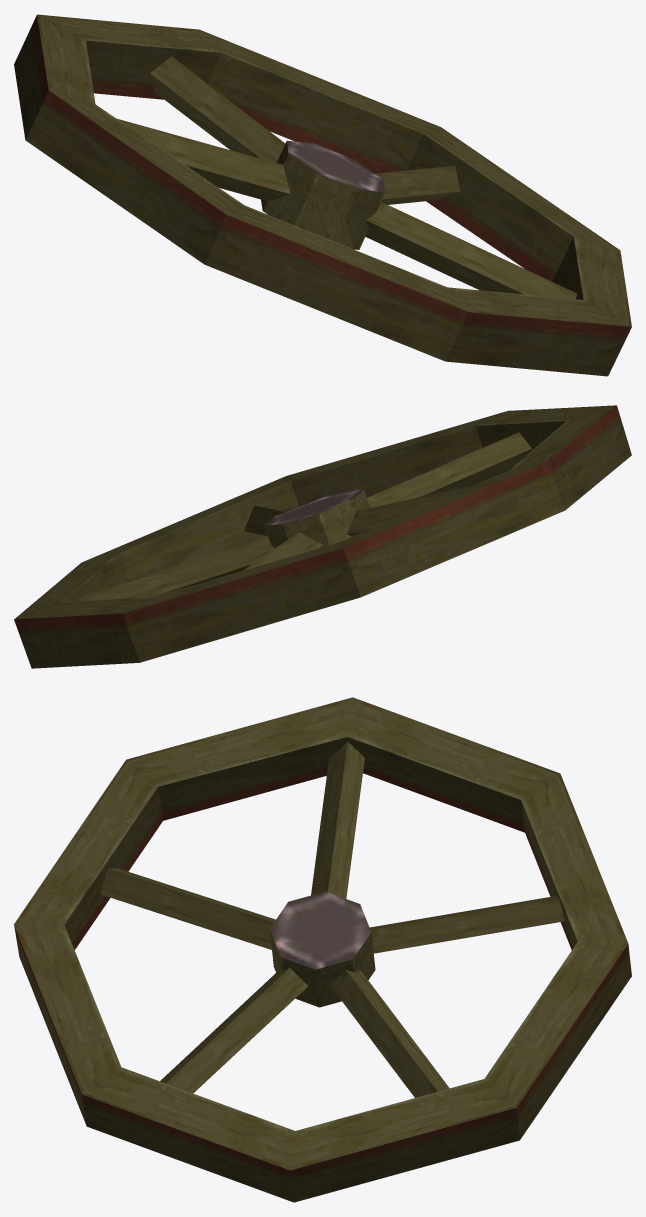
Rendered from Yland3_bj_03 Yland3.FBX.
3 renders of one model, top to bottom at view 1: azimuth 30°, elevation 25°; view 2: azimuth 150°, elevation 25°; view 3: azimuth 270°, elevation 25°, orthographic. The views are drawn at different scales.
Visible parts, largest first — view 1: Yland3_bj_03 Yland3; view 2: Yland3_bj_03 Yland3; view 3: Yland3_bj_03 Yland3.
Part boxes in pixels (x1,y1,x2,y2): Yland3_bj_03 Yland3: (14, 14, 631, 376); Yland3_bj_03 Yland3: (14, 405, 631, 668); Yland3_bj_03 Yland3: (14, 697, 631, 1202).
Size of the model in its own units: 13.71 by 7.32 by 14.65.
